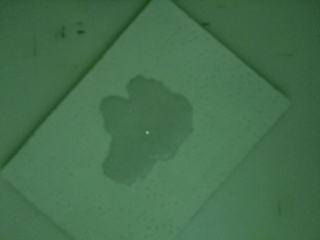Water_detected: (108, 85, 187, 178)
